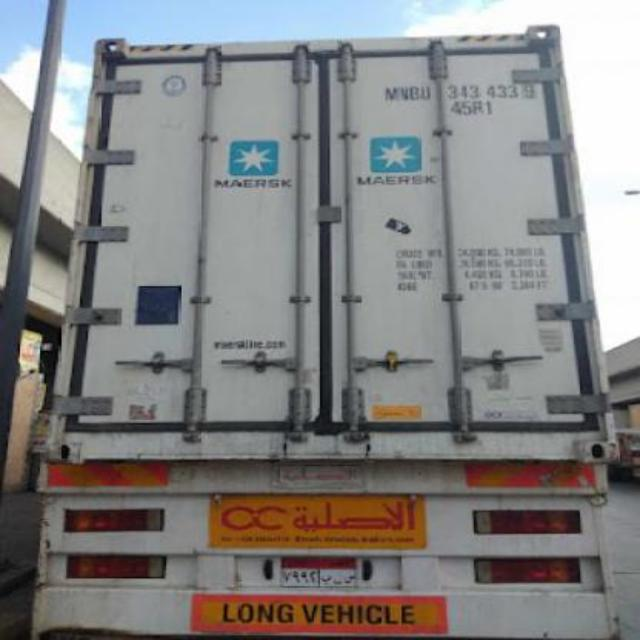3: (466, 83, 482, 101), (446, 83, 458, 101), (508, 83, 518, 101), (498, 83, 508, 99)
4: (486, 83, 498, 101), (460, 85, 468, 98)
9: (524, 84, 536, 100)
B: (410, 86, 420, 102)
M: (382, 84, 400, 104)
N: (398, 84, 410, 102)
U: (420, 84, 432, 100)
